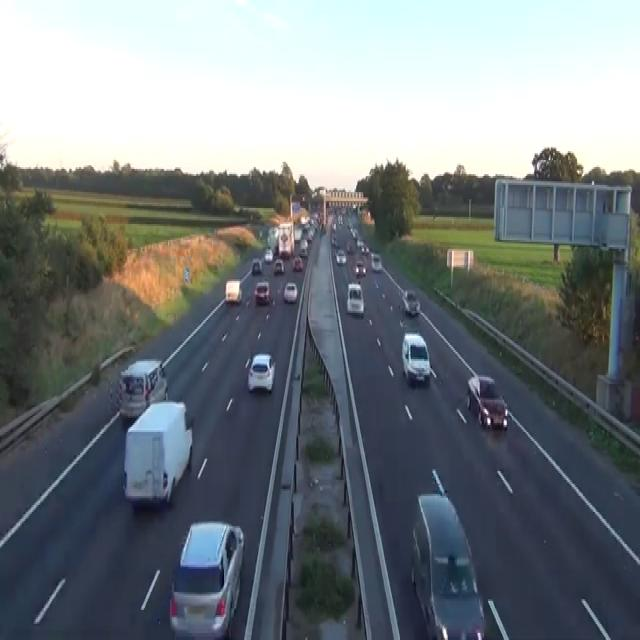Car: (280, 492, 366, 638), (410, 491, 485, 638), (169, 521, 244, 638), (116, 358, 168, 420), (466, 374, 508, 431), (401, 331, 431, 384), (246, 352, 275, 393), (346, 282, 364, 314), (402, 290, 420, 314), (225, 279, 242, 304), (254, 281, 270, 304), (283, 281, 297, 302), (371, 252, 381, 272), (335, 247, 346, 265), (273, 258, 284, 274), (251, 258, 262, 274), (355, 260, 366, 276), (299, 238, 308, 256), (292, 256, 303, 270), (264, 247, 273, 263), (319, 222, 326, 235), (259, 228, 268, 238), (361, 244, 369, 254), (331, 235, 337, 247), (356, 238, 364, 247), (346, 242, 352, 252), (351, 228, 357, 238), (258, 230, 264, 238), (331, 222, 336, 231), (347, 220, 351, 230)
Truck: (122, 400, 193, 507), (278, 222, 294, 258)
